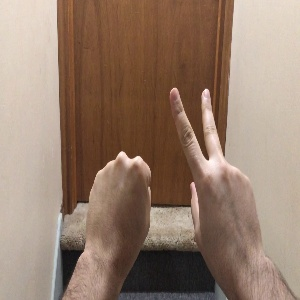hand: (170, 88, 262, 253), (86, 151, 150, 246)
